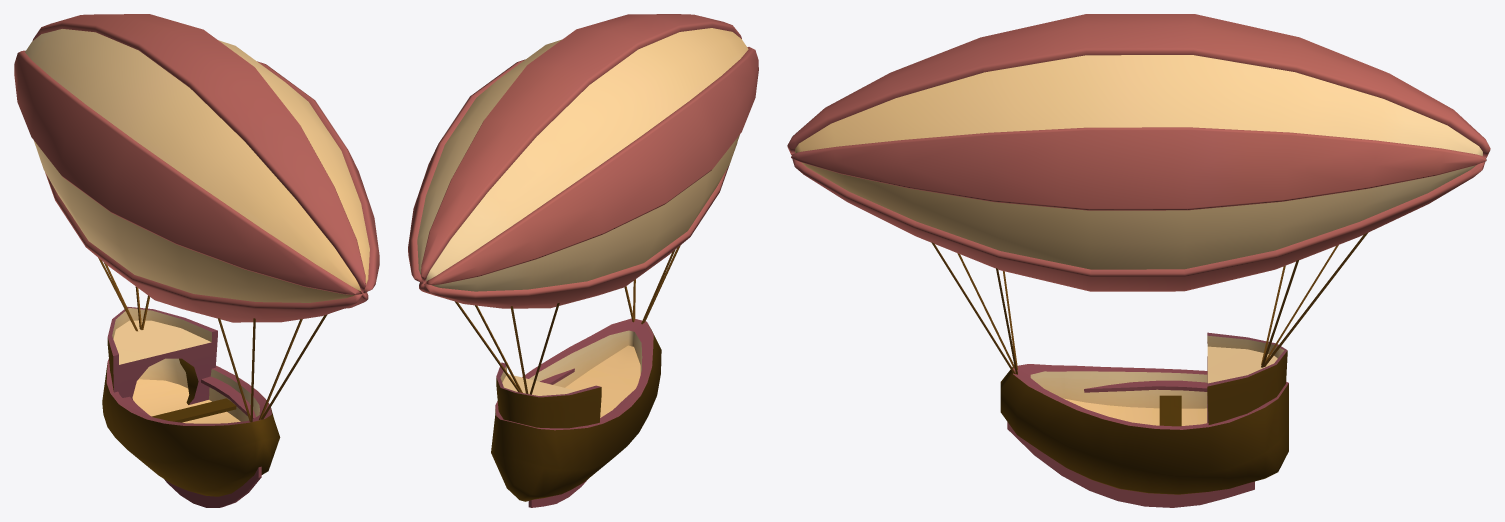
Rendered from Airship_2.fbx.
3 renders of one model, left to right at view 1: azimuth 30°, elevation 25°; view 2: azimuth 150°, elevation 25°; view 3: azimuth 270°, elevation 25°, orthographic. The views are drawn at different scales.
Parts seen in each view (by area): view 1: Airship_2; view 2: Airship_2; view 3: Airship_2.
Part boxes in pixels (<box>): Airship_2: <box>14,14,379,507</box>; Airship_2: <box>408,14,758,507</box>; Airship_2: <box>787,14,1490,507</box>.
Size of the model in its own units: 7.4 by 14.36 by 18.99.
